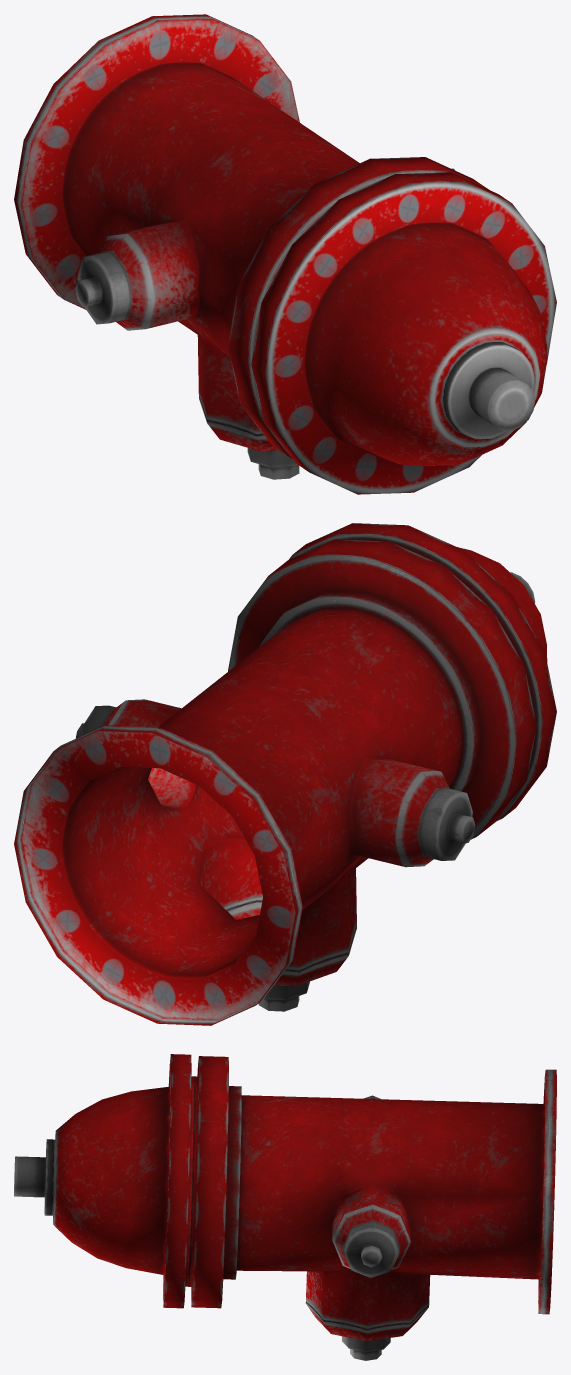
File: Hidrante.dae
3 views of the same model, one above another, from view 1: azimuth 30°, elevation 25°; view 2: azimuth 150°, elevation 25°; view 3: azimuth 270°, elevation 25° (orthographic). The views are drawn at different scales.
Visible parts, largest first — view 1: Hidrante; view 2: Hidrante; view 3: Hidrante.
Boxes of the visible parts, bbox=[...] form: Hidrante: bbox=[14, 14, 556, 494]; Hidrante: bbox=[14, 523, 556, 1025]; Hidrante: bbox=[14, 1054, 556, 1360].
Size of the model in its own units: 4.5 by 7.28 by 4.27.
Materials: 1 (1 with a texture image).
